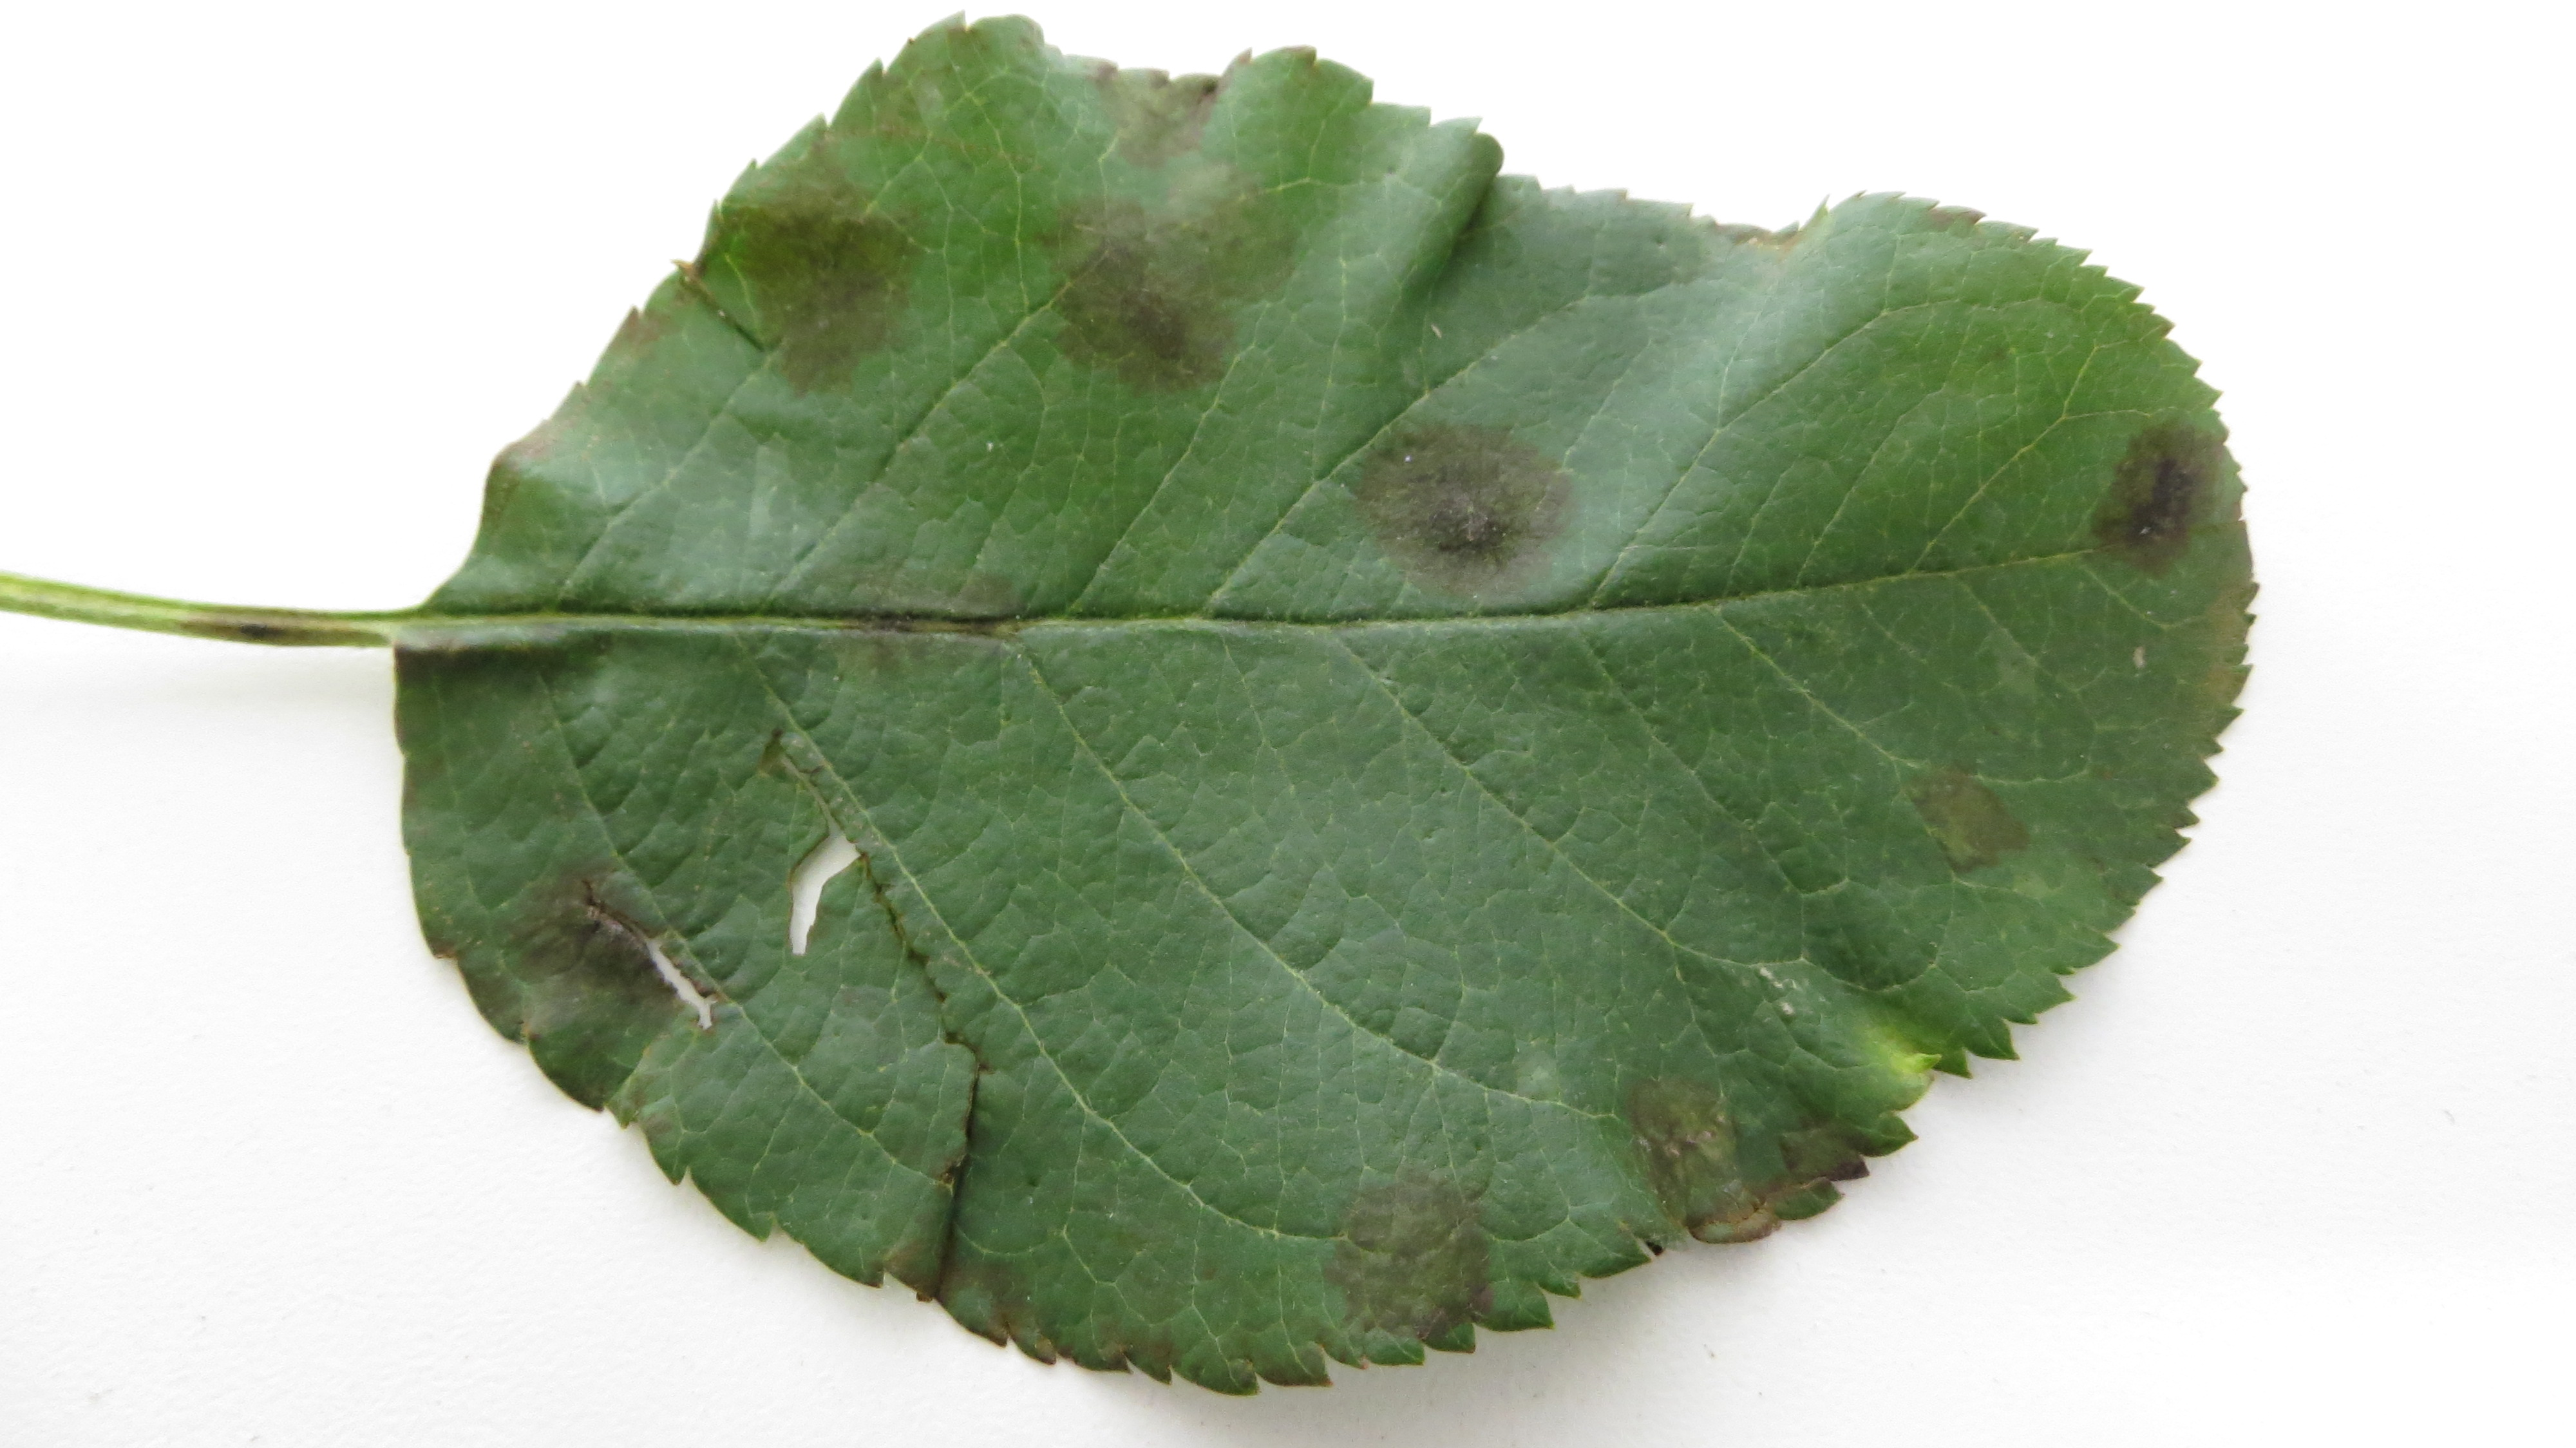sarna: (738, 133, 915, 400), (1039, 200, 1249, 409), (1346, 416, 1576, 605), (508, 843, 694, 1057), (1306, 1158, 1511, 1333), (2084, 407, 2235, 597), (833, 551, 1033, 678), (1615, 1039, 1755, 1209), (1893, 738, 2040, 885), (1164, 149, 1293, 292), (1097, 50, 1230, 175), (1757, 1076, 1868, 1195)
